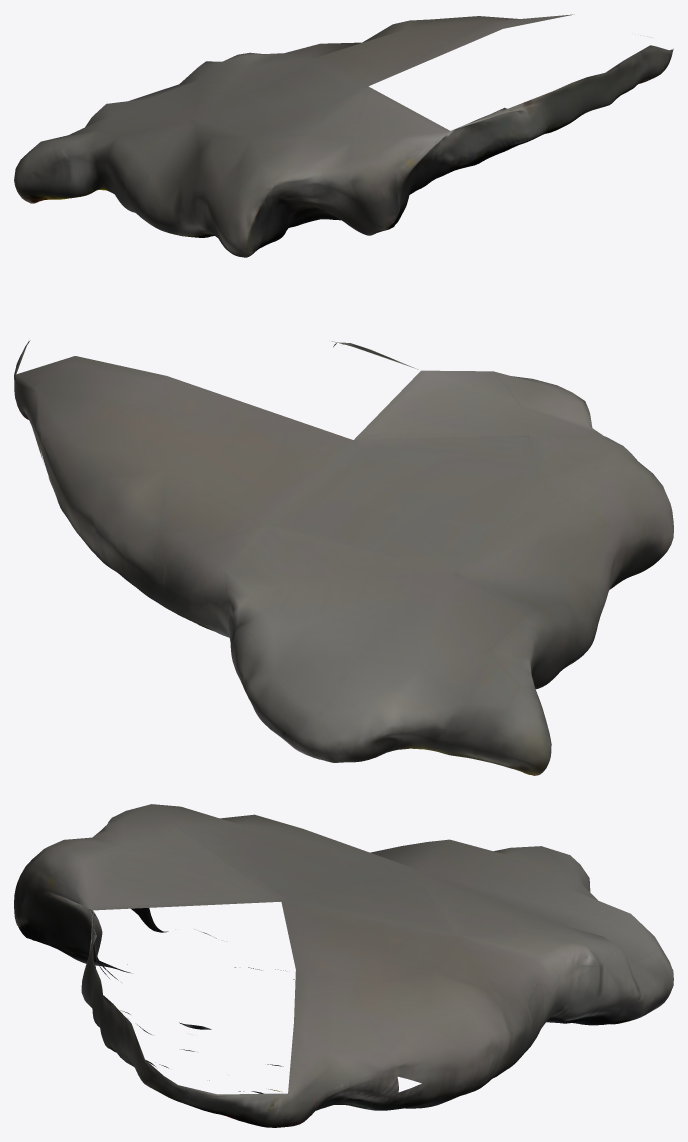
3 views of the same model, one above another, from view 1: azimuth 30°, elevation 25°; view 2: azimuth 150°, elevation 25°; view 3: azimuth 270°, elevation 25° (orthographic). The views are drawn at different scales.
Size of the model in its own units: 0.553 by 0.1561 by 0.4292.
1 material, 1 textured.
